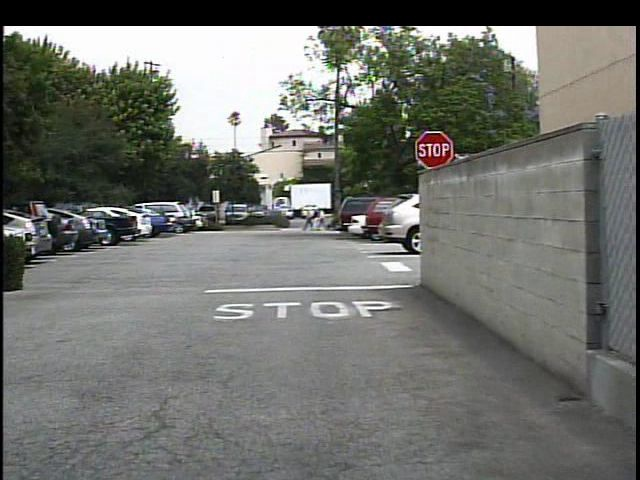person: (311, 207, 326, 234), (298, 208, 312, 234)
